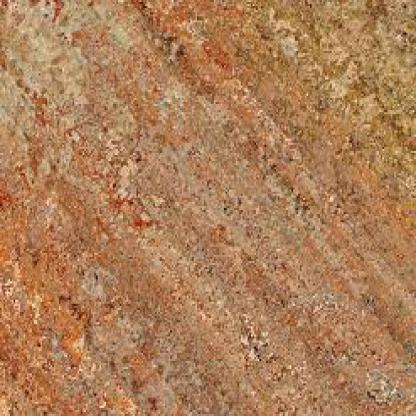Metamorphic_Marble: (3, 4, 414, 414)
